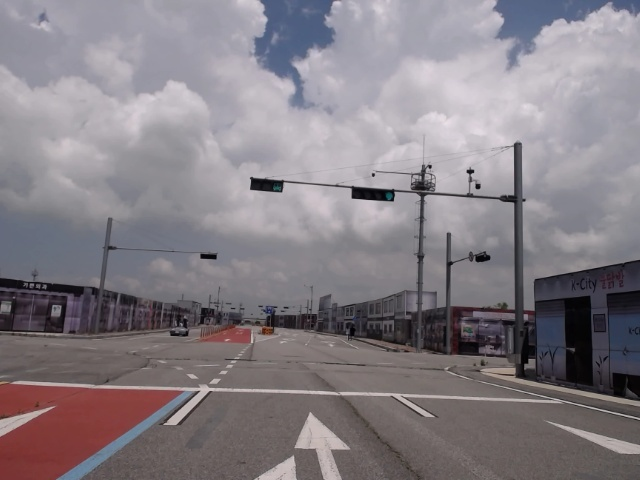straight_green_4: (352, 188, 394, 202)
